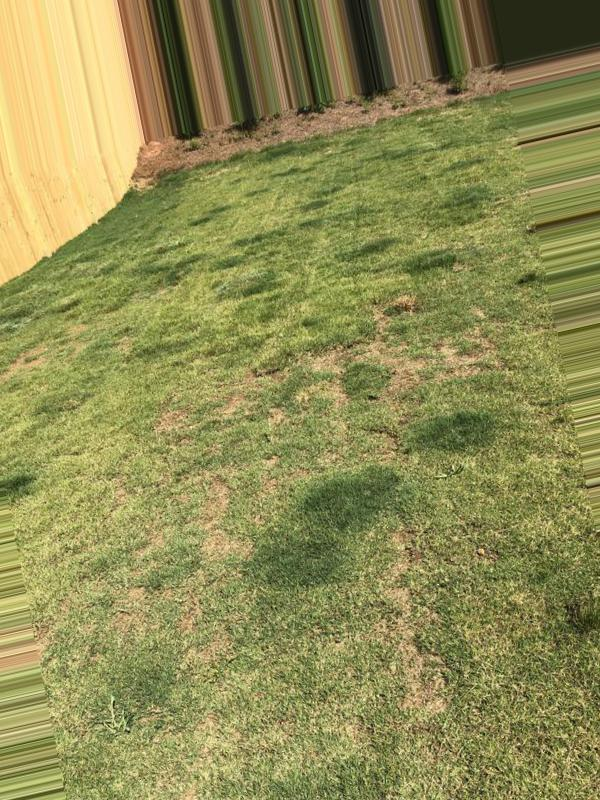patch: (26, 411, 290, 719), (144, 683, 356, 795), (329, 323, 478, 411)
